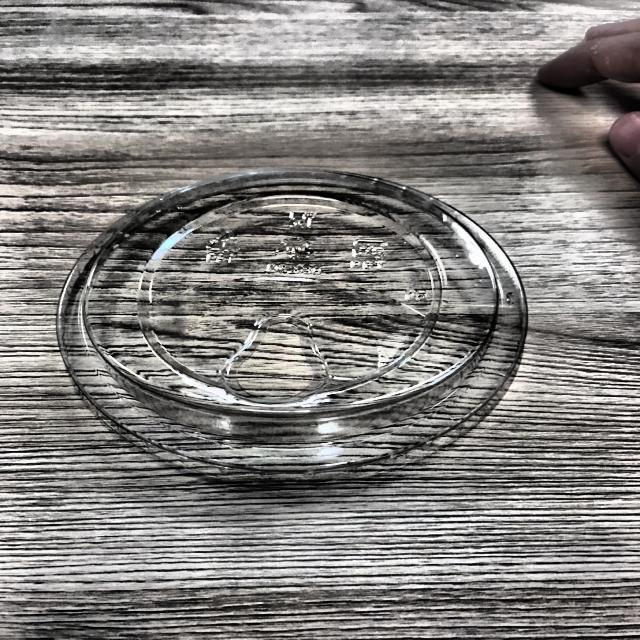plastic cup: (42, 157, 544, 488)
